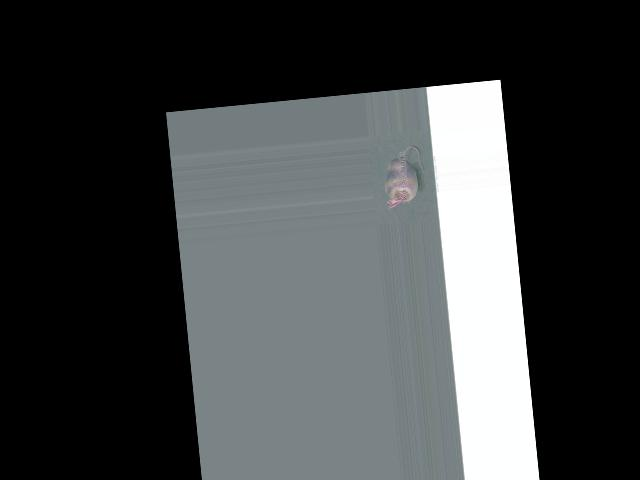beet: (381, 145, 427, 211)
